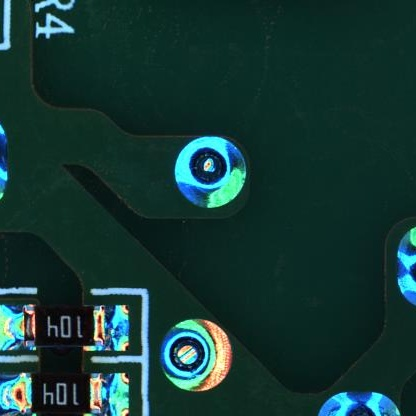spot: (158, 318, 234, 393), (173, 135, 246, 209), (316, 390, 402, 416), (395, 226, 416, 308)
